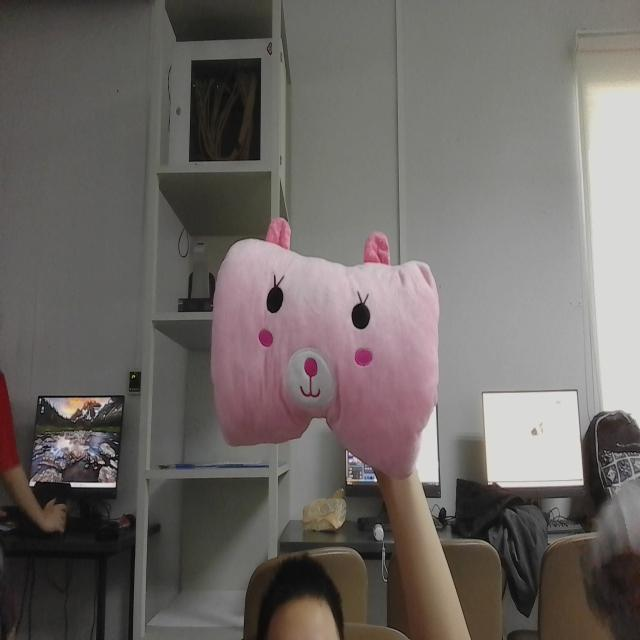pinkpillow: (210, 204, 444, 494)
